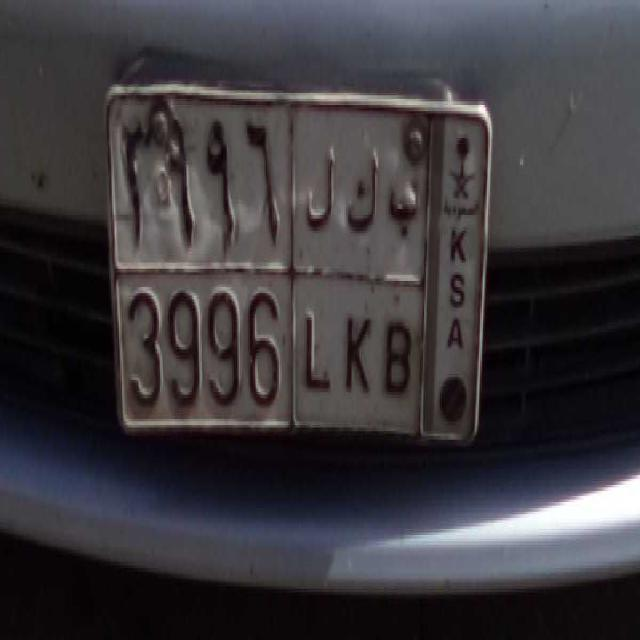license_plate: (116, 262, 423, 436)
